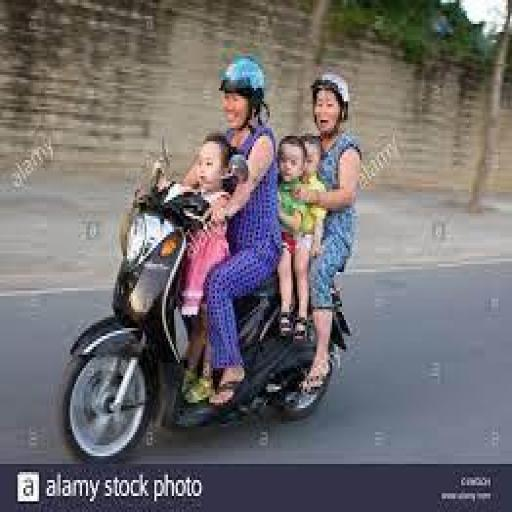helmet: (203, 46, 296, 164)
triple riding: (52, 48, 382, 470)
